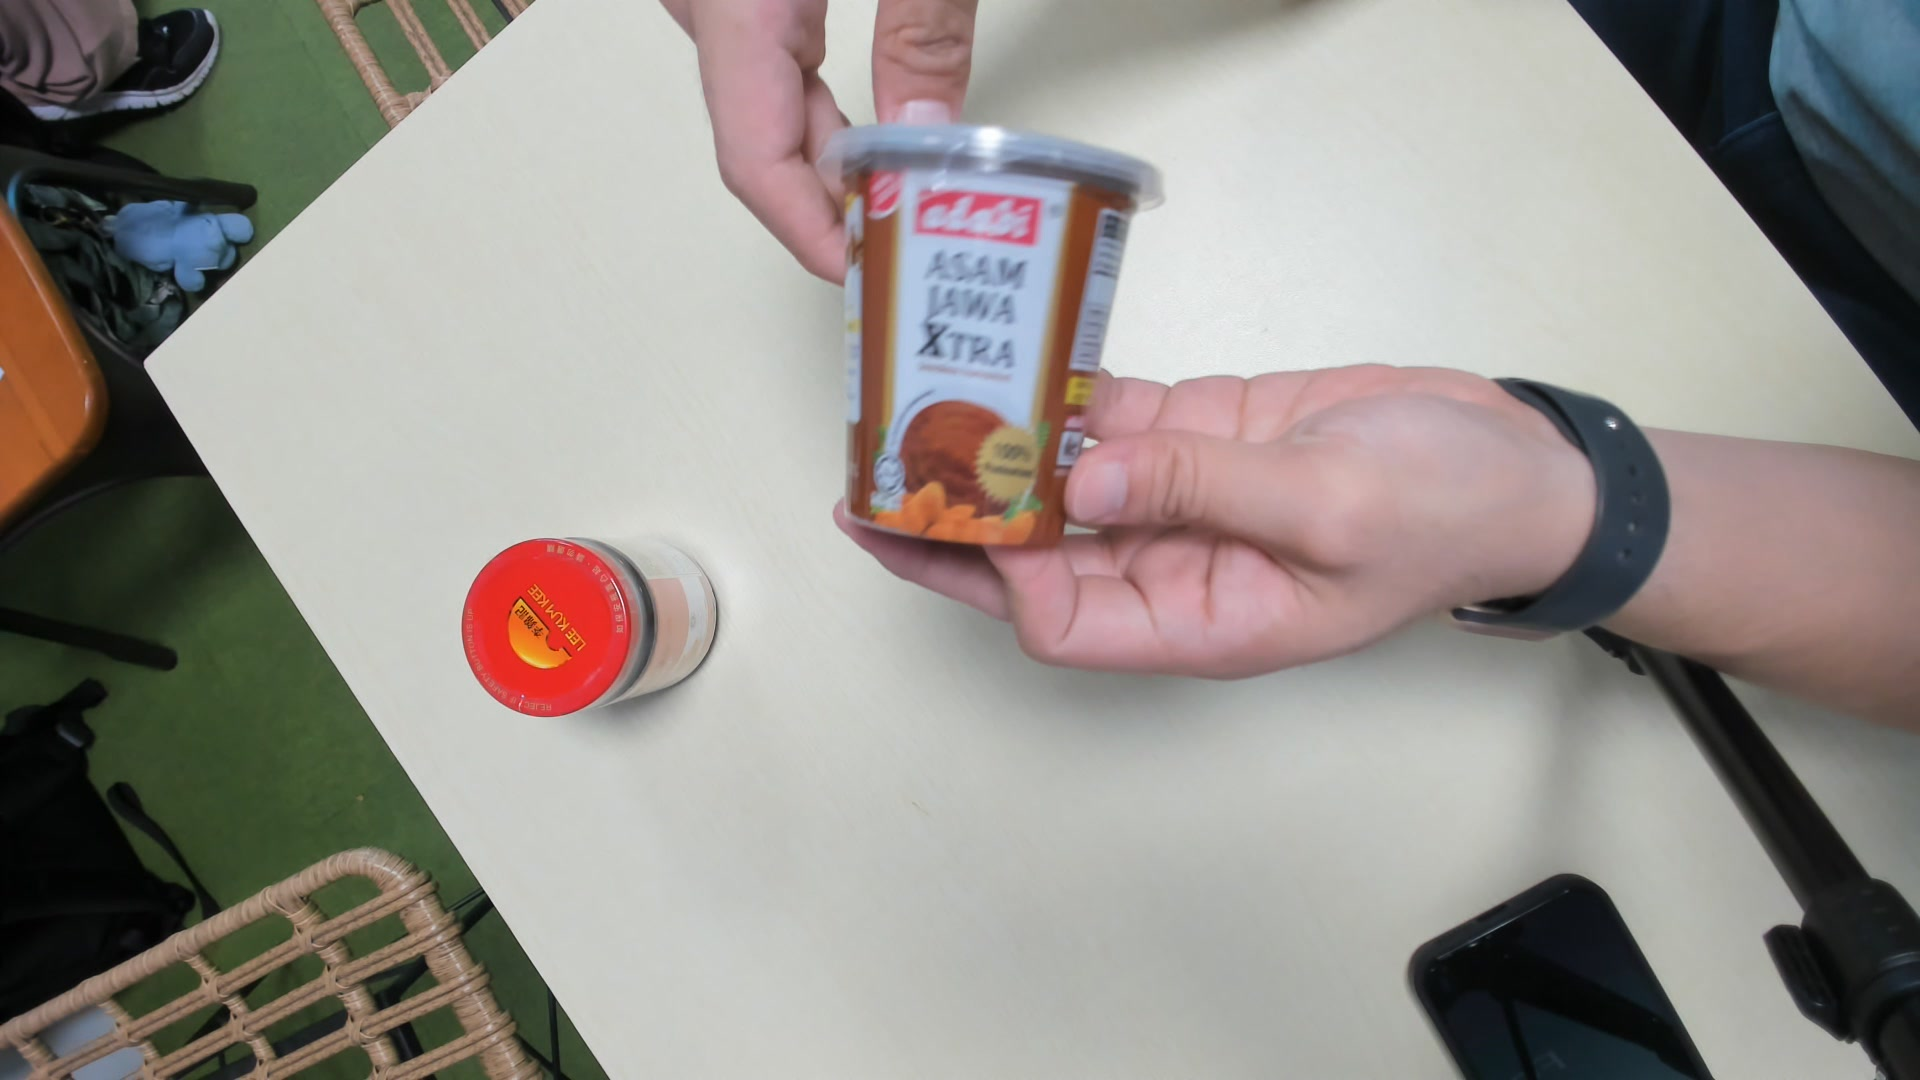OtherSauceDressing_200-299g_Halal_NonHealthy: (822, 119, 1149, 562)
